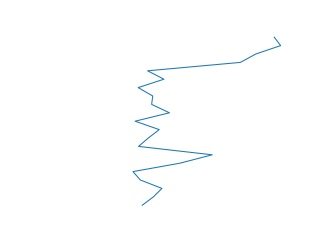crevasseRiverChannelBar: (128, 35, 286, 210)
